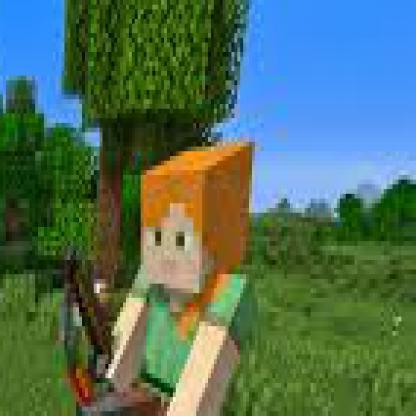minecraft-pigs: (53, 406, 255, 412)
